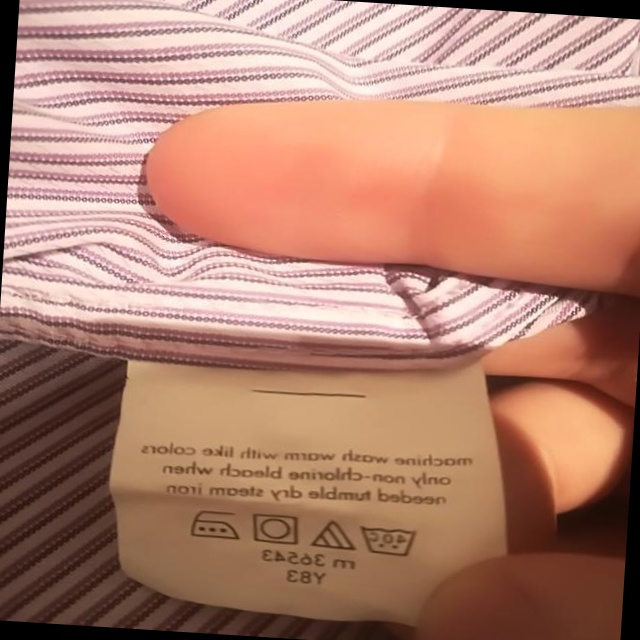40C: (356, 521, 419, 562)
iron_high: (184, 505, 241, 543)
non_chlorine_bleach: (309, 517, 357, 555)
tumble_dry_normal: (247, 512, 301, 548)
